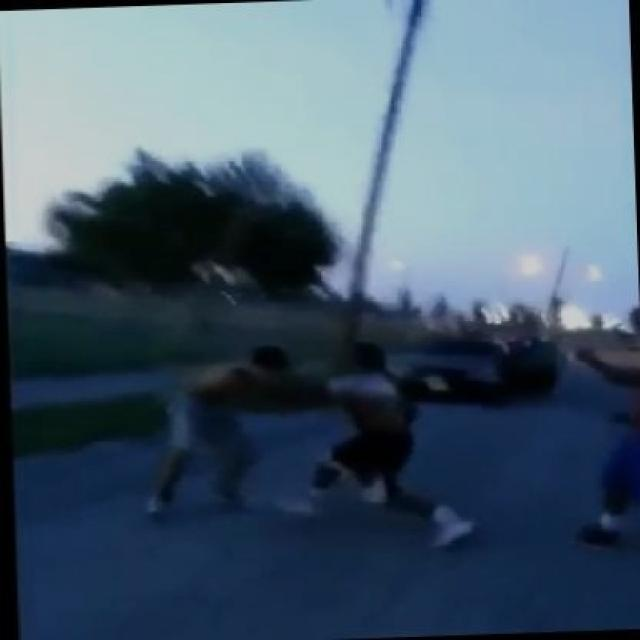fight: (146, 336, 477, 548)
